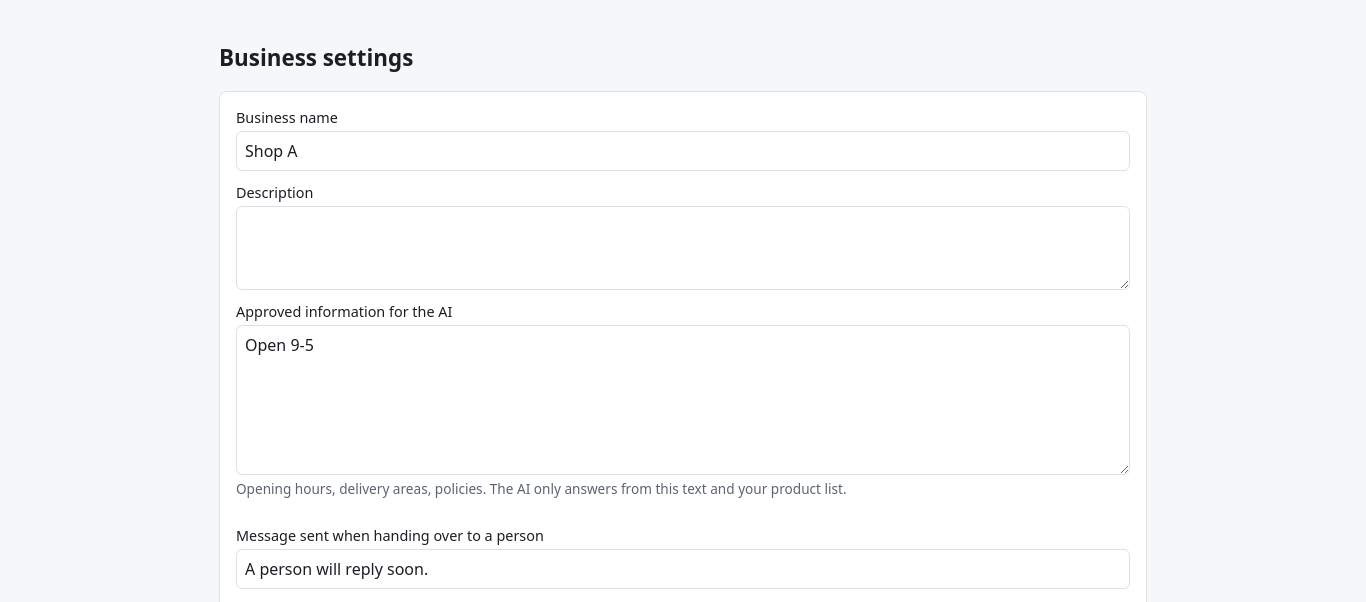
Test case: settings page › saves only editable fields
In the text box labelled "Description": (683, 248) x1=236 y1=206 x2=1130 y2=290, type "Fresh coffee"
(page scrolled)
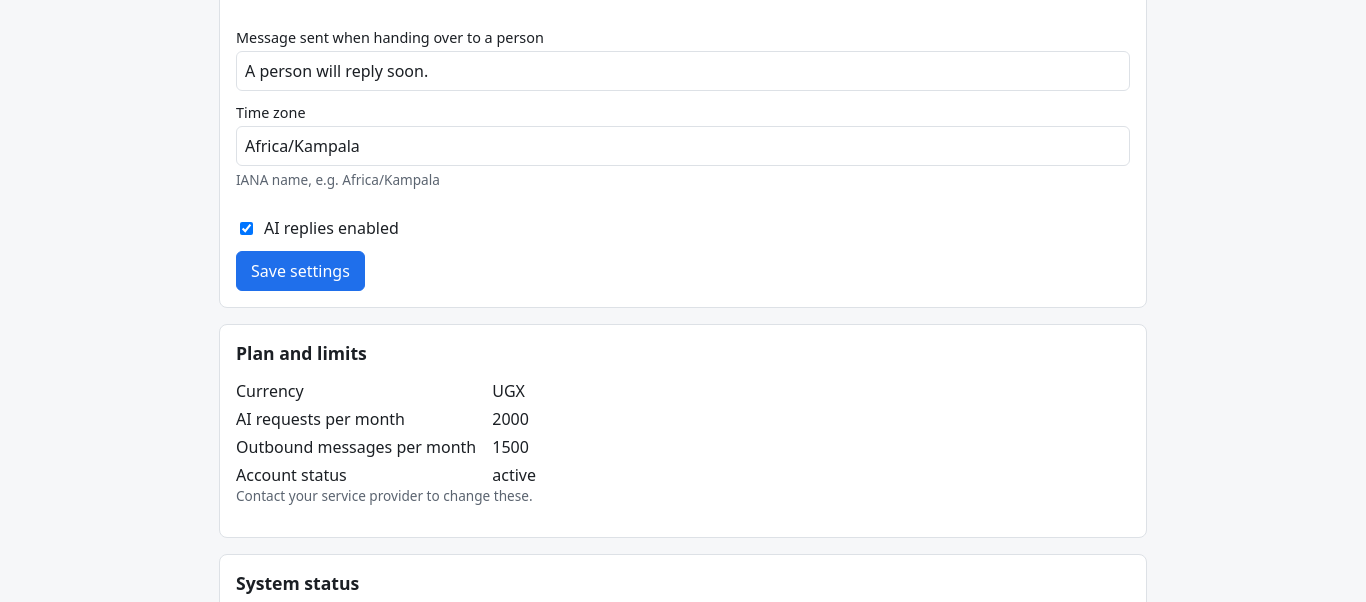
Click the button "Save settings": click(300, 271) x1=236 y1=251 x2=365 y2=291
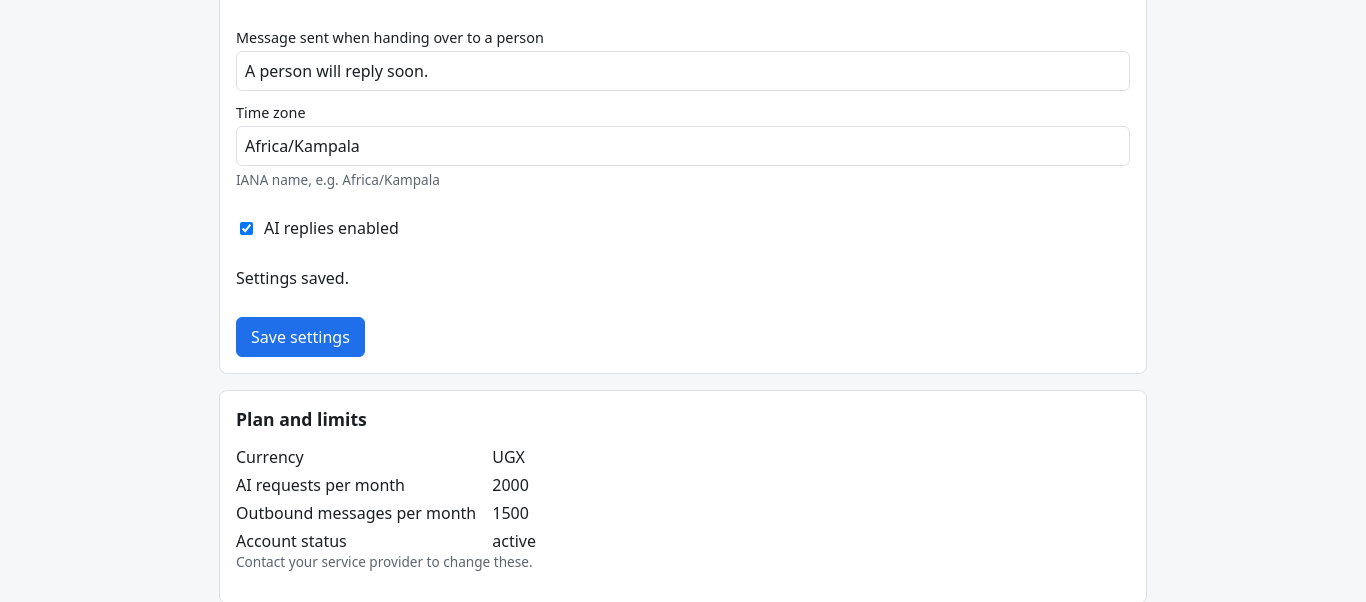
expect the text "Settings saved." is shown: met, box x1=236 y1=267 x2=349 y2=289
